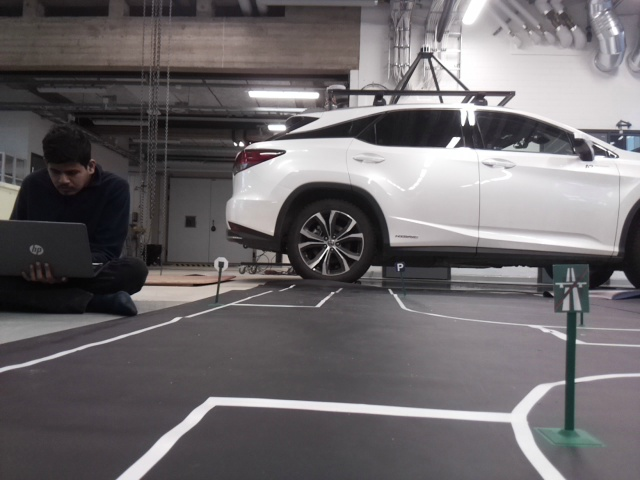HighwayExit: (553, 266, 587, 310)
